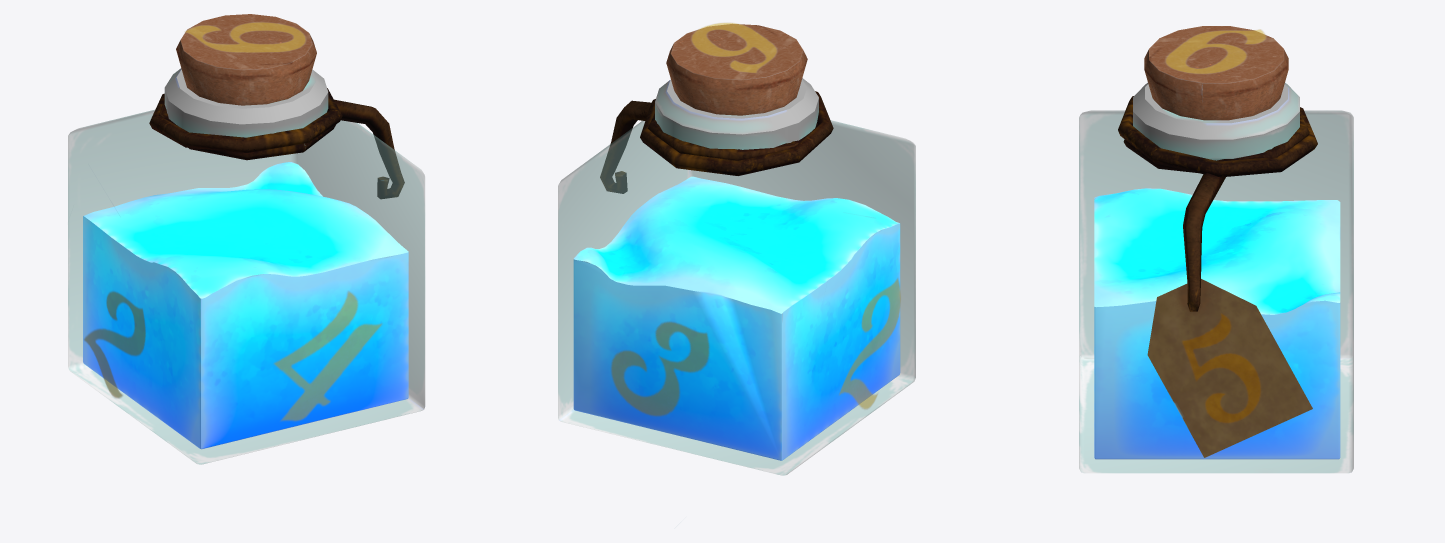
The model's file is potion_d6.glb.
The picture shows the model from 3 angles, left to right: view 1: azimuth 30°, elevation 25°; view 2: azimuth 150°, elevation 25°; view 3: azimuth 270°, elevation 25°; orthographic projection. The views are drawn at different scales.
Parts seen in each view (by area): view 1: potionD6; view 2: potionD6; view 3: potionD6.
Part boxes in pixels (x1,y1,x2,y2): potionD6: (68, 14, 425, 464); potionD6: (558, 22, 915, 475); potionD6: (1079, 26, 1353, 473).
Size of the model in its own units: 151 by 175 by 151.
2 materials, 2 textured.
